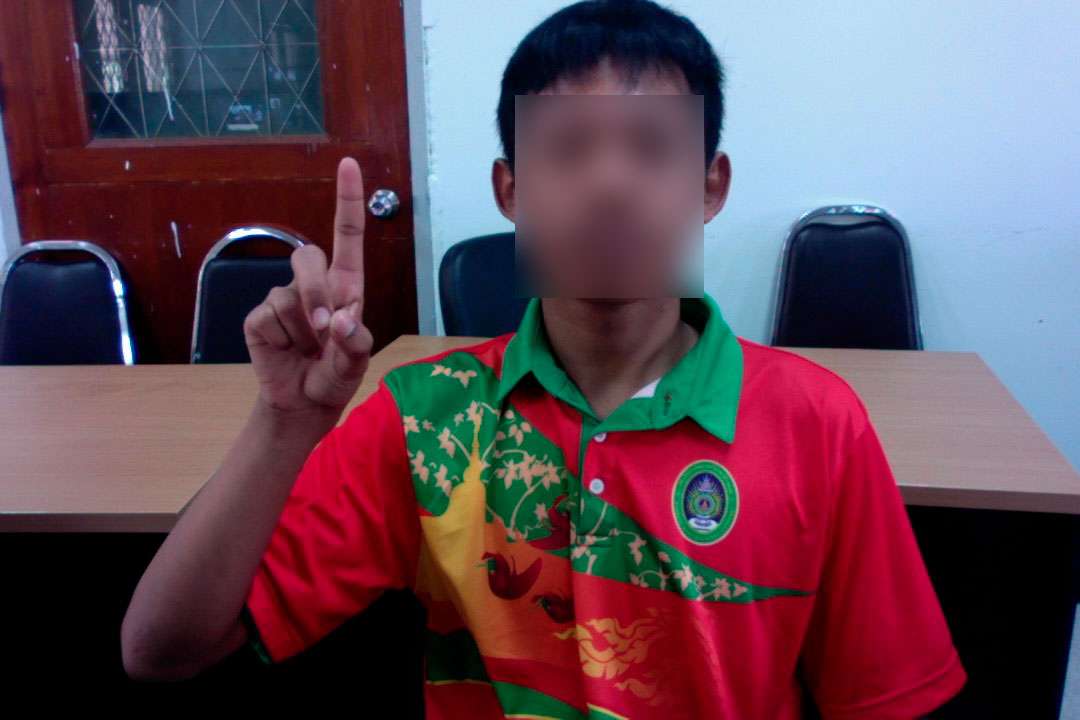dor: (231, 149, 392, 419)
